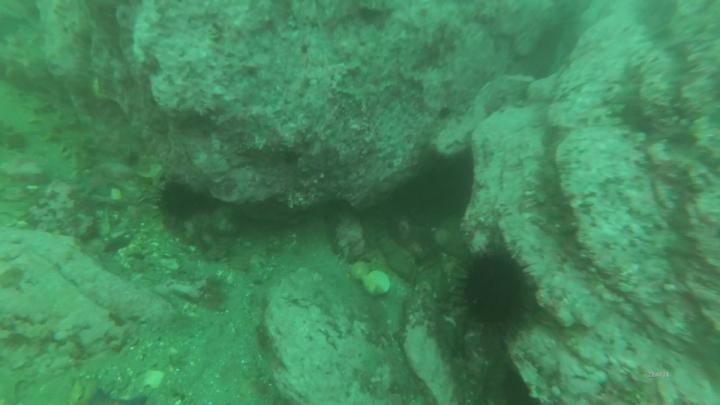echinus: (452, 240, 536, 335), (155, 176, 207, 226)
